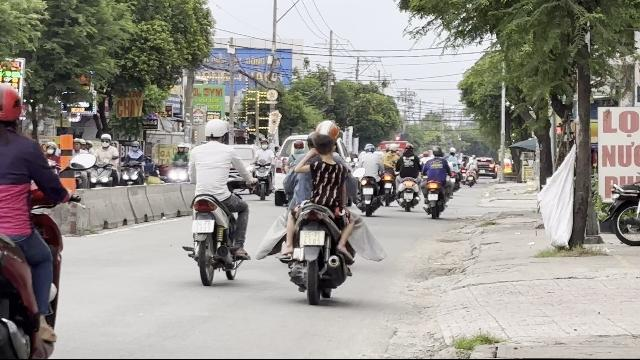helmet: (0, 84, 26, 132), (310, 120, 340, 152), (204, 118, 228, 142)
licenseplate: (300, 231, 324, 245), (192, 219, 214, 232)
motorcyclist: (0, 79, 72, 356), (269, 117, 363, 303), (180, 116, 252, 284)
nohelmet: (310, 134, 338, 158)
